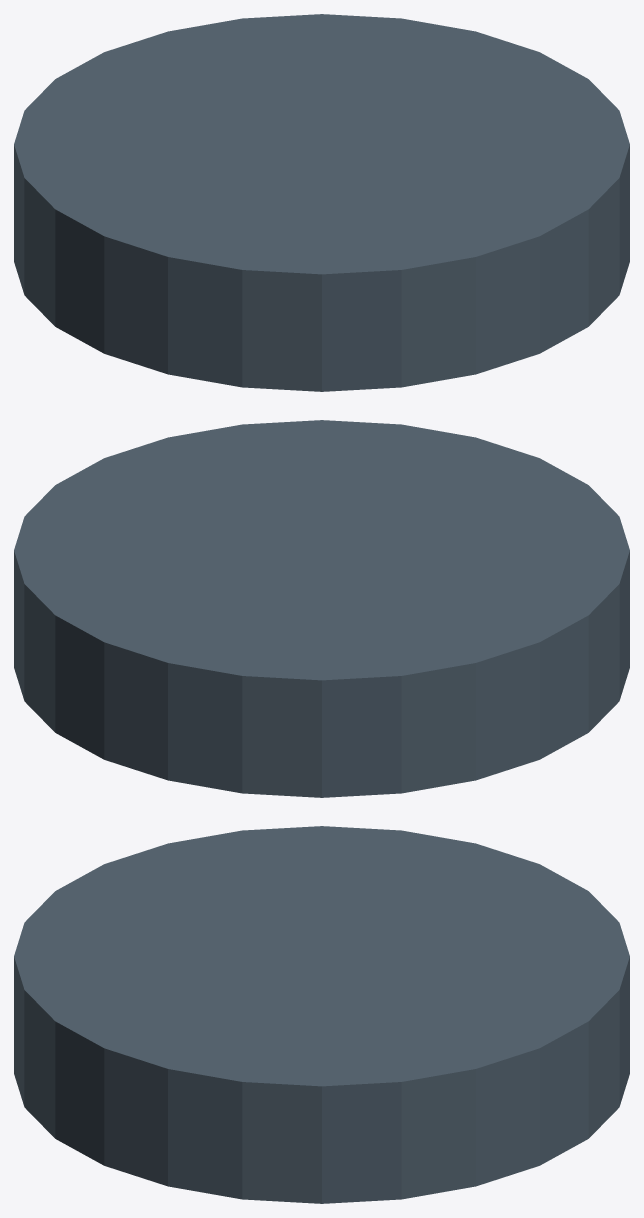
Rendered from drone_rotor_left_steel.obj.
The picture shows the model from 3 angles, top to bottom: view 1: azimuth 30°, elevation 25°; view 2: azimuth 150°, elevation 25°; view 3: azimuth 270°, elevation 25°; orthographic projection.
Visible parts, largest first — view 1: part_000; view 2: part_000; view 3: part_000.
Part boxes in pixels (x1=…): part_000: x1=14, y1=14, x2=629, y2=391; part_000: x1=14, y1=420, x2=629, y2=797; part_000: x1=14, y1=826, x2=629, y2=1203.
Bounding box in the file's own units: 0.076 × 0.016 × 0.076.
